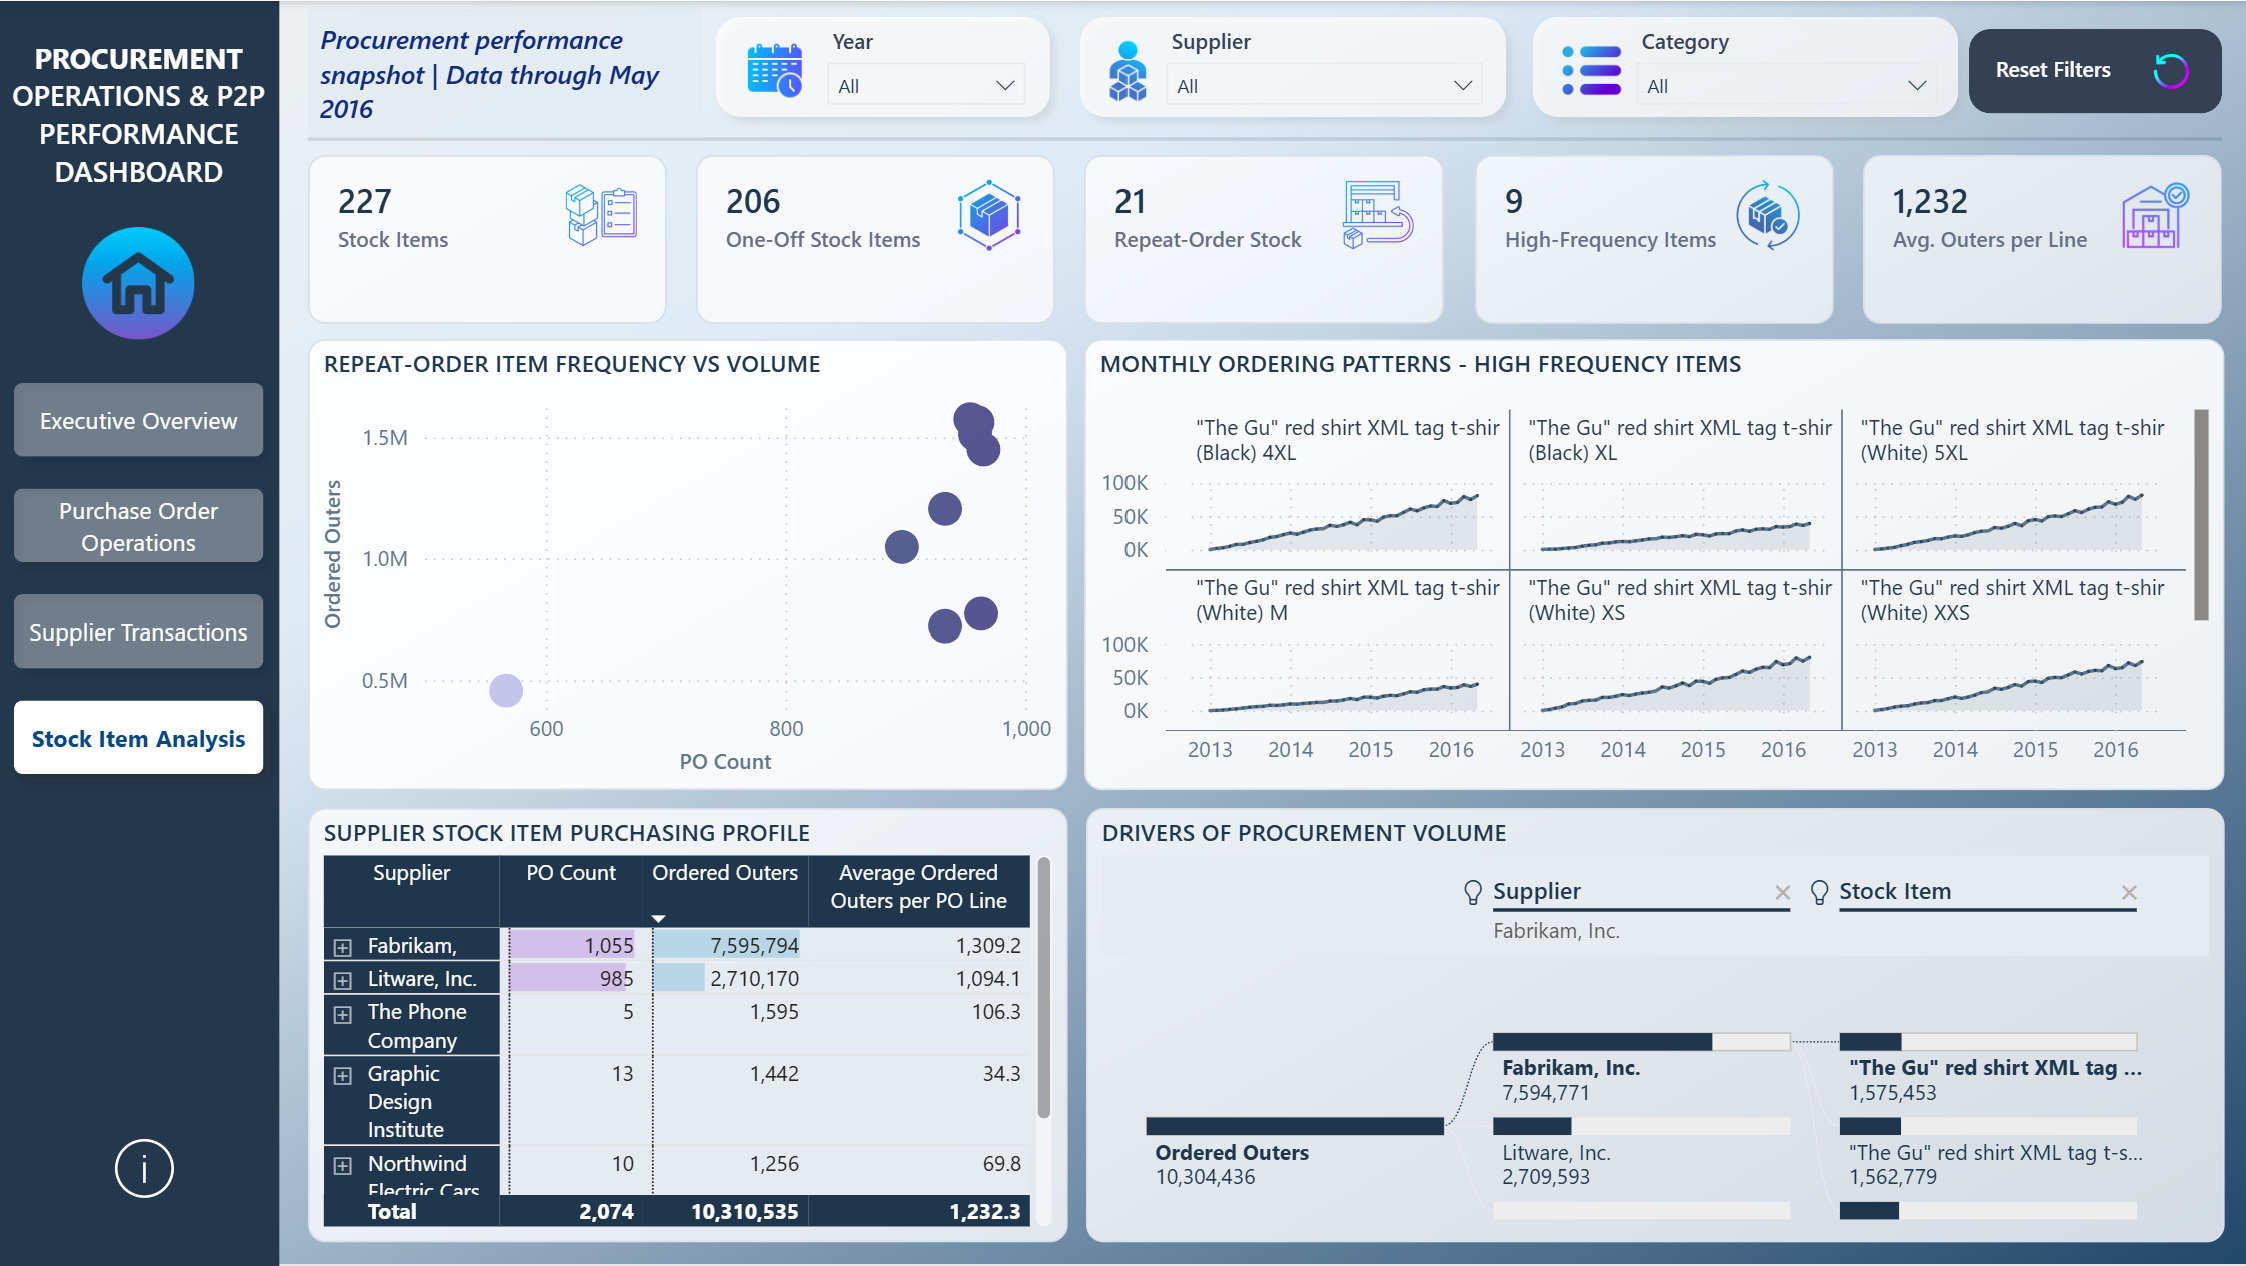

What the dashboard file says about the page in this screenshot:
{"tool":"powerbi","page":{"name":"Stock Item Analysis","canvas":[1280,720],"ordinal":3},"visuals":[{"type":"shape","box":[0,0,160,720],"z":0},{"type":"shape","box":[399.7,0,208,75],"z":0,"group":"g3"},{"type":"shape","box":[605.7,0,260,75],"z":0,"group":"g1"},{"type":"shape","box":[863.7,0,260,75],"z":0,"group":"g2"},{"type":"shape","box":[1120,16,144,48],"z":0,"group":"g5"},{"type":"slicer","title":"Year","fields":{"Values":["DimDate.Calendar Year"]},"box":[461.7,25,132.4,40],"z":1000,"group":"g3"},{"type":"slicer","title":"Year","fields":{"Values":["DimSupplier.Supplier"]},"box":[653.7,25,200,40],"z":1000,"group":"g1"},{"type":"slicer","title":"Year","fields":{"Values":["DimSupplier.Category"]},"box":[921.7,25,191,48],"z":1000,"group":"g2"},{"type":"cardVisual","fields":{"Data":["__Measures.Purchased Stock Items"]},"box":[176,88,204,96],"z":1000},{"type":"image","box":[888.7,4,35,70],"z":2000,"group":"g2"},{"type":"image","box":[424.7,5,35,70],"z":2000,"group":"g3"},{"type":"image","box":[623.7,5,35,70],"z":2000,"group":"g1"},{"type":"cardVisual","fields":{"Data":["__Measures.Repeat-Order Stock Items"]},"box":[618,88,204,96],"z":2000},{"type":"textbox","box":[470.7,8,56.7,32],"z":3000,"group":"g3"},{"type":"textbox","box":[661.7,8,72,32],"z":3000,"group":"g1"},{"type":"textbox","box":[930.2,8,85.5,32],"z":3000,"group":"g2"},{"type":"cardVisual","fields":{"Data":["__Measures.High-Frequency Stock Items"]},"box":[839,88,204,96],"z":3000},{"type":"cardVisual","fields":{"Data":["__Measures.Average Ordered Outers per PO Line"]},"box":[1060,88,204,96],"z":4000},{"type":"pageNavigator","box":[0,208,160,240],"z":5000},{"type":"image","box":[48,128,64,64],"z":6000},{"type":"textbox","box":[0,16,160,112],"z":7000},{"type":"group","id":"g1","title":"Group 1","box":[605.7,0,260,75],"z":8000},{"type":"group","id":"g2","title":"Group 1","box":[863.7,0,260,75],"z":9000},{"type":"group","id":"g3","title":"Group 2","box":[399.7,0,208,75],"z":10000},{"type":"cardVisual","fields":{"Data":["__Measures.One-Off Stock Items"]},"box":[397,88,204,96],"z":11000},{"type":"group","id":"g4","title":"Group 4","box":[1120,16,144,48],"z":12000},{"type":"shape","box":[176,71,1088,16],"z":13000},{"type":"actionButton","box":[60,640,46,46],"z":14000},{"type":"textbox","box":[176,5,224,73],"z":15000},{"type":"scatterChart","title":"REPEAT-ORDER ITEM FREQUENCY VS VOLUME","fields":{"X":["__Measures.PO Count"],"Category":["DimStockItem.WWI Stock Item ID"],"Y":["__Measures.Ordered Outers"]},"box":[176,192,432,256],"z":16000},{"type":"pivotTable","title":"SUPPLIER STOCK ITEM PURCHASING PROFILE","fields":{"Rows":["DimSupplier.Supplier","DimStockItem.Stock Item"],"Values":["__Measures.PO Count","__Measures.Ordered Outers","__Measures.Average Ordered Outers per PO Line"]},"box":[176,458,432,247],"z":17000},{"type":"group","id":"g5","title":"Group 3","box":[1120,16,144,48],"z":18000,"group":"g4"},{"type":"decompositionTreeVisual","title":"DRIVERS OF PROCUREMENT VOLUME","fields":{"Analyze":["__Measures.Ordered Outers"],"ExplainBy":["DimSupplier.Supplier","DimStockItem.Stock Item"]},"box":[619,458,647,247],"z":18000},{"type":"lineChart","title":"MONTHLY ORDERING PATTERNS - HIGH FREQUENCY ITEMS","fields":{"Y":["__Measures.Ordered Outers"],"Rows":["DimStockItem.Stock Item"],"Category":["DimDate.Month Start"]},"box":[618,192,648,256],"z":19000},{"type":"image","box":[1225,25,21,30],"z":20000,"group":"g4"},{"type":"textbox","box":[1120,24,96,32],"z":21000,"group":"g5"}]}

Visuals, with their boxes on the page's 1280x720 design canvas (x1, y1, x2, y2). These are canvas units, not pixel positions in the 2246x1266 screenshot, which may show the page scaled, cropped or inside an application window:
shape: BBox(0, 0, 160, 720)
shape: BBox(400, 0, 608, 75)
shape: BBox(606, 0, 866, 75)
shape: BBox(864, 0, 1124, 75)
shape: BBox(1120, 16, 1264, 64)
"Year" slicer: BBox(462, 25, 594, 65)
"Year" slicer: BBox(654, 25, 854, 65)
"Year" slicer: BBox(922, 25, 1113, 73)
cardVisual - __Measures.Purchased Stock Items: BBox(176, 88, 380, 184)
image: BBox(889, 4, 924, 74)
image: BBox(425, 5, 460, 75)
image: BBox(624, 5, 659, 75)
cardVisual - __Measures.Repeat-Order Stock Items: BBox(618, 88, 822, 184)
textbox: BBox(471, 8, 527, 40)
textbox: BBox(662, 8, 734, 40)
textbox: BBox(930, 8, 1016, 40)
cardVisual - __Measures.High-Frequency Stock Items: BBox(839, 88, 1043, 184)
cardVisual - __Measures.Average Ordered Outers per PO Line: BBox(1060, 88, 1264, 184)
pageNavigator: BBox(0, 208, 160, 448)
image: BBox(48, 128, 112, 192)
textbox: BBox(0, 16, 160, 128)
"Group 1" group: BBox(606, 0, 866, 75)
"Group 1" group: BBox(864, 0, 1124, 75)
"Group 2" group: BBox(400, 0, 608, 75)
cardVisual - __Measures.One-Off Stock Items: BBox(397, 88, 601, 184)
"Group 4" group: BBox(1120, 16, 1264, 64)
shape: BBox(176, 71, 1264, 87)
actionButton: BBox(60, 640, 106, 686)
textbox: BBox(176, 5, 400, 78)
"REPEAT-ORDER ITEM FREQUENCY VS VOLUME" scatterChart: BBox(176, 192, 608, 448)
"SUPPLIER STOCK ITEM PURCHASING PROFILE" pivotTable: BBox(176, 458, 608, 705)
"Group 3" group: BBox(1120, 16, 1264, 64)
"DRIVERS OF PROCUREMENT VOLUME" decompositionTreeVisual: BBox(619, 458, 1266, 705)
"MONTHLY ORDERING PATTERNS - HIGH FREQUENCY ITEMS" lineChart: BBox(618, 192, 1266, 448)
image: BBox(1225, 25, 1246, 55)
textbox: BBox(1120, 24, 1216, 56)
